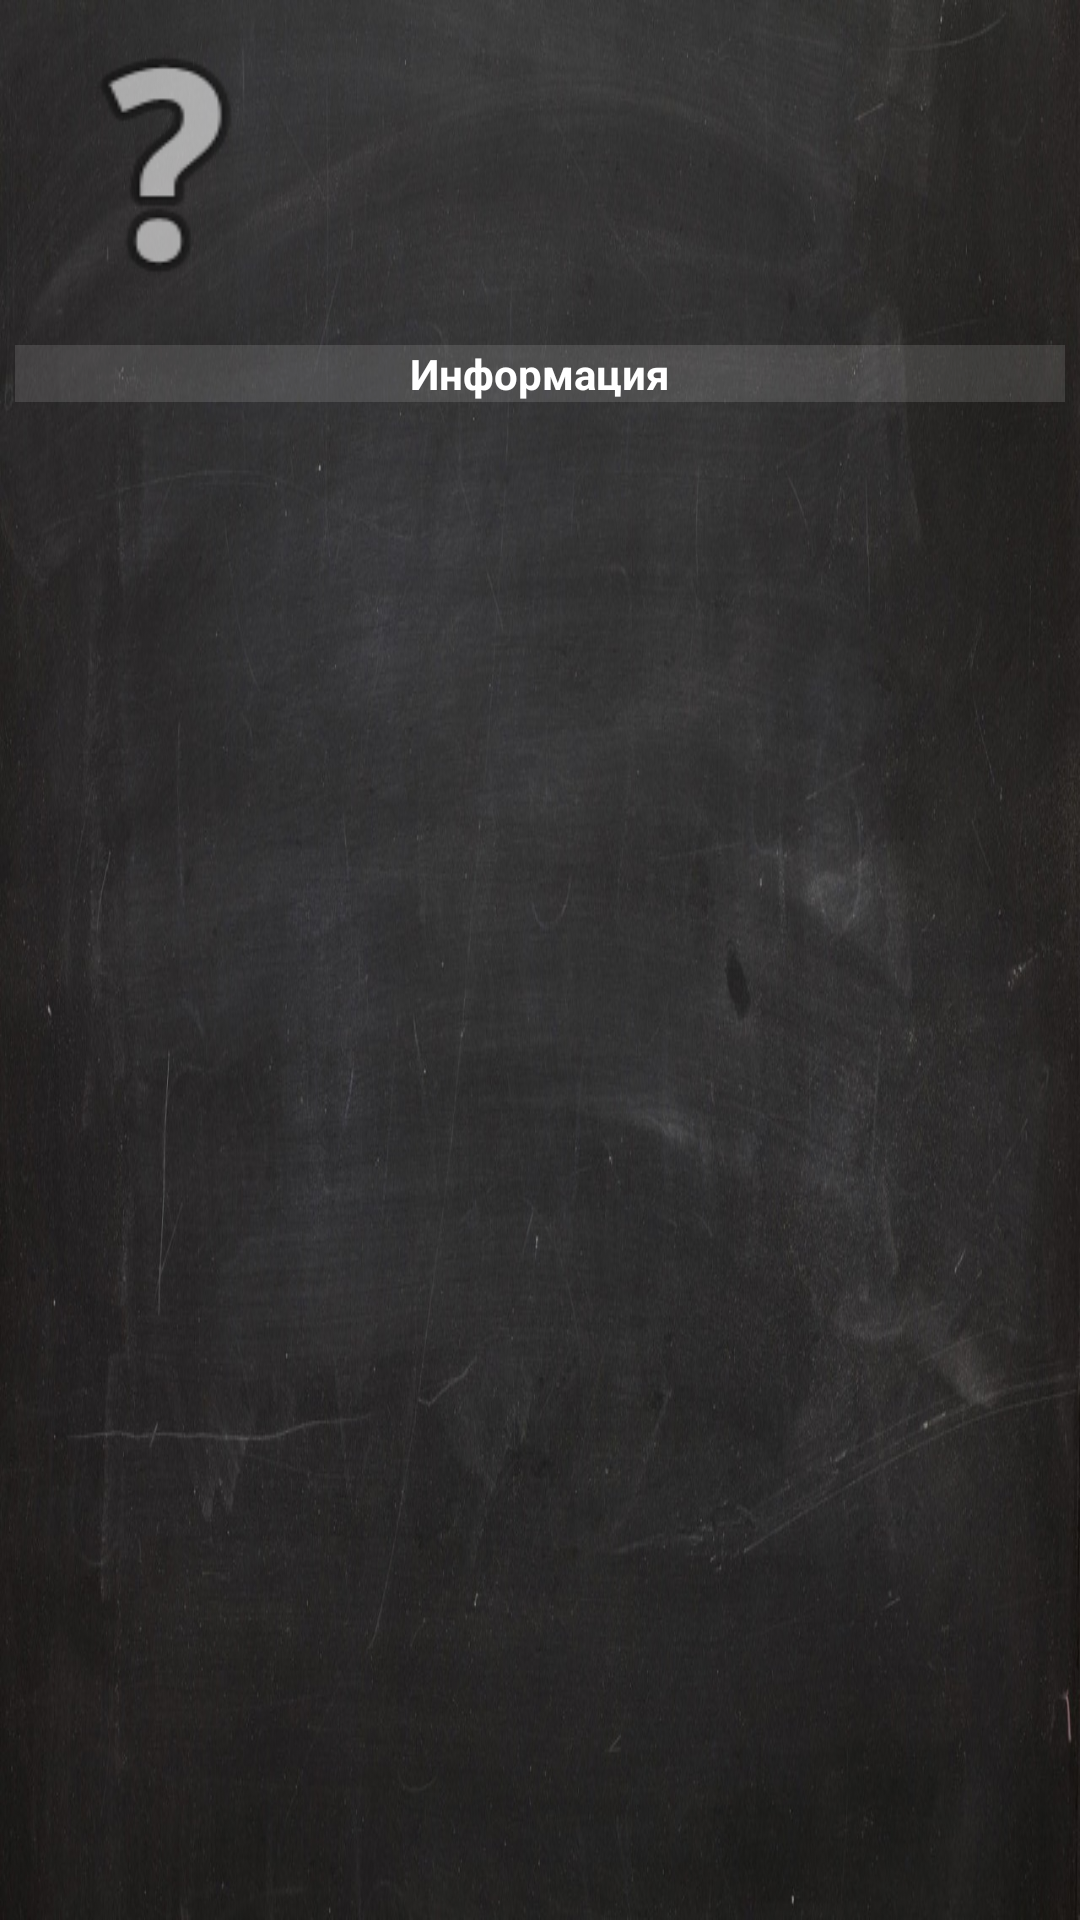

Where icons sit on this 1080x1920 app screen, as bbox=[x1, y1, x2, y2]:
help: bbox=[103, 62, 244, 270]
